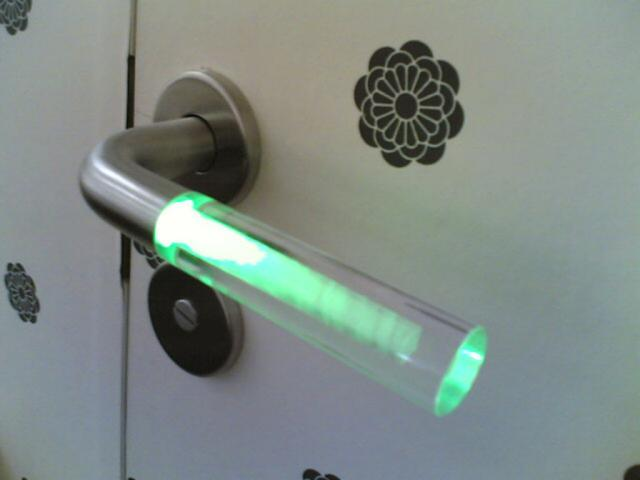Door-handle: (77, 66, 489, 419)
